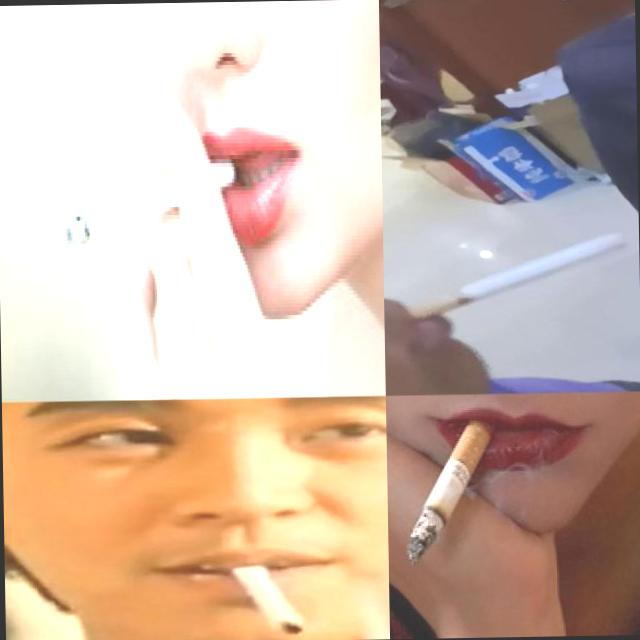cigarette: (404, 234, 632, 323), (61, 156, 238, 248), (404, 401, 502, 563), (226, 556, 305, 636)
